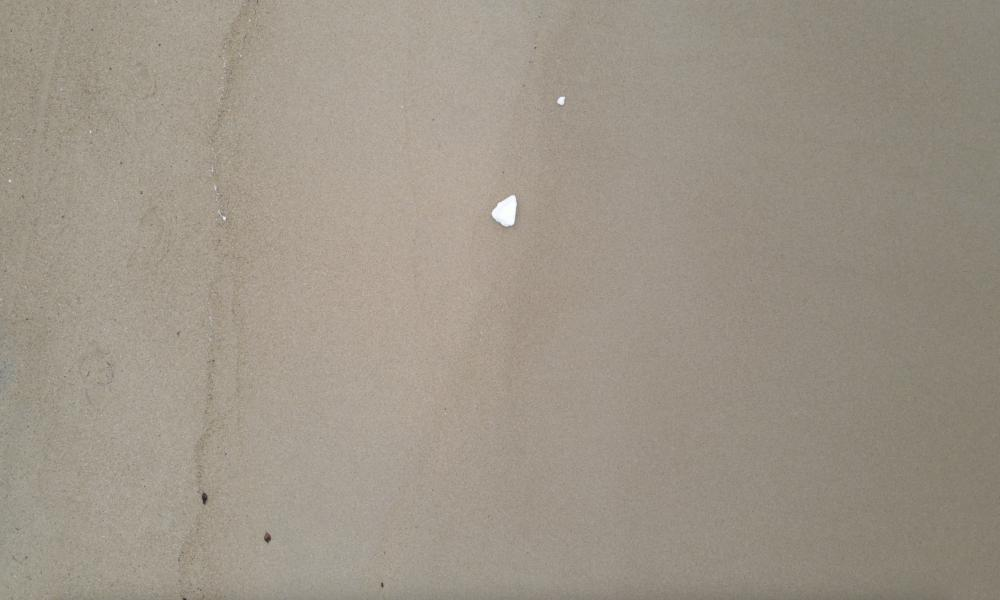styrofoam: (492, 193, 518, 226), (560, 94, 566, 106)
